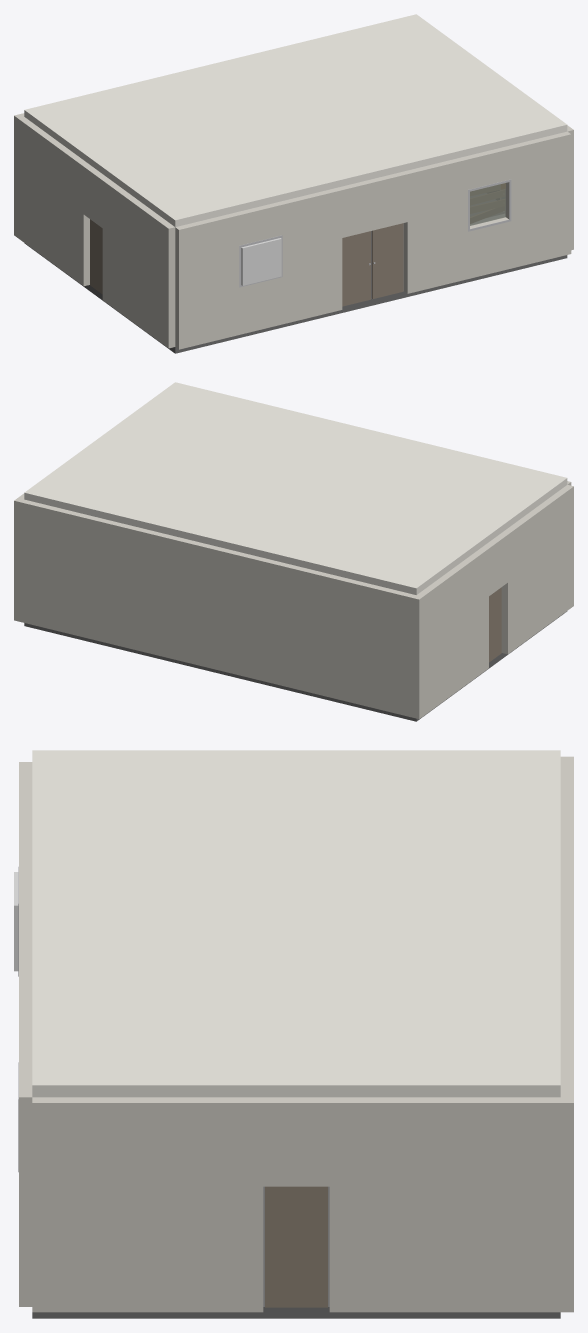
File: MainHall_Horror.fbx
The picture shows the model from 3 angles, top to bottom: view 1: azimuth 30°, elevation 25°; view 2: azimuth 150°, elevation 25°; view 3: azimuth 270°, elevation 25°; orthographic projection. The views are drawn at different scales.
Parts seen in each view (by area): view 1: Ceiling, Wall_South_R, Wall_South_L, Wall_West_S, Wall_West_N, Wall_South_Lintel, Door_South_R, Floor, Door_South_L, _Cutter_Wall_South_L_-3.5, Win_R_Glass, Wall_West_Lintel (+2 smaller); view 2: Ceiling, Wall_North, Wall_West_S, Wall_West_N, Floor, Wall_West_Lintel, Door_West; view 3: Ceiling, Wall_East_N, Wall_East_S, Wall_North, Door_East, Wall_East_Lintel, Wall_South_R, Floor, Wall_South_L, Wall_South_Lintel.
Part boxes in pixels (x1,y1,x2,y2): Ceiling: (24, 14, 567, 227); Wall_South_R: (404, 131, 571, 293); Wall_South_L: (175, 187, 342, 349); Wall_West_S: (102, 179, 175, 348); Wall_West_N: (17, 117, 89, 286); Wall_South_Lintel: (339, 171, 407, 237); Door_South_R: (371, 223, 403, 298); Floor: (24, 193, 567, 353); Door_South_L: (342, 231, 370, 306); _Cutter_Wall_South_L_-3.5: (241, 238, 281, 285); Win_R_Glass: (470, 183, 505, 225); Wall_West_Lintel: (83, 165, 108, 227); Ceiling: (24, 382, 567, 594); Wall_North: (14, 498, 422, 718); Wall_West_S: (501, 484, 573, 654); Wall_West_N: (417, 547, 488, 716); Floor: (24, 611, 567, 721); Wall_West_Lintel: (483, 533, 507, 595); Door_West: (489, 587, 501, 662); Ceiling: (32, 750, 560, 1097); Wall_East_N: (329, 1097, 560, 1312); Wall_East_S: (32, 1097, 263, 1312); Wall_North: (560, 756, 573, 1312); Door_East: (265, 1186, 327, 1307); Wall_East_Lintel: (263, 1097, 329, 1186); Wall_South_R: (19, 957, 32, 1306); Floor: (32, 1186, 560, 1318); Wall_South_L: (19, 762, 32, 901); Wall_South_Lintel: (19, 901, 32, 957).
Bounding box in the file's own units: 1240 × 390 × 848.
